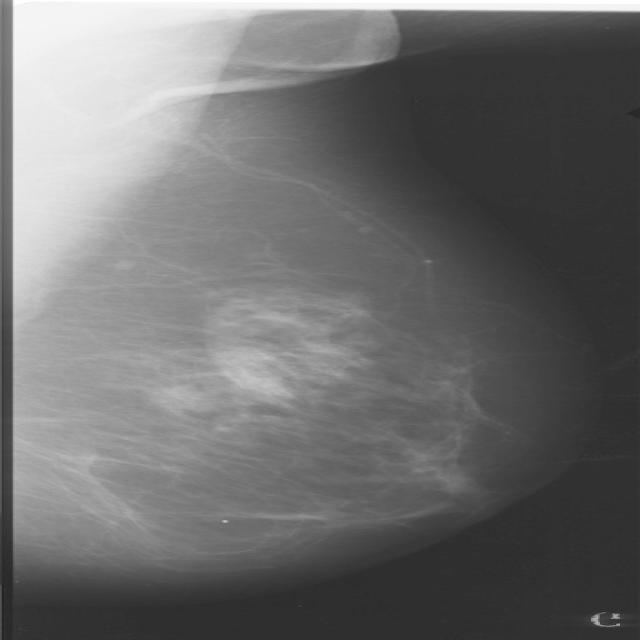tumour: (307, 296, 373, 320)
